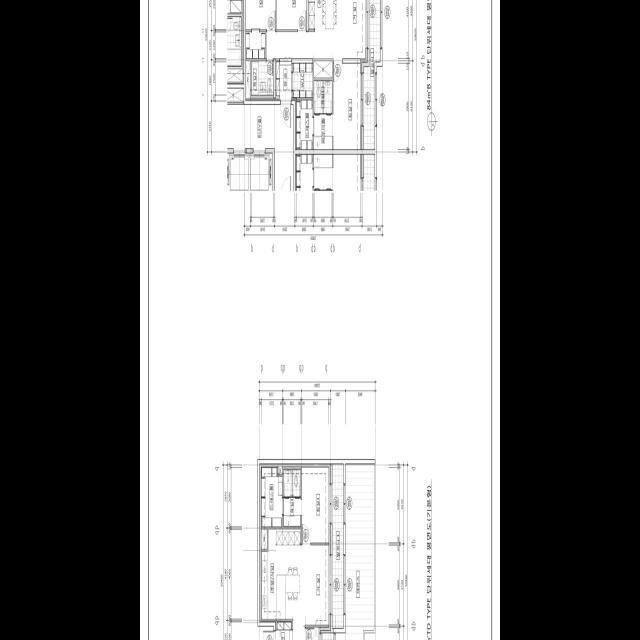background: (140, 0, 500, 640)
space_balconi: (364, 0, 380, 149), (332, 464, 343, 628)
space_bedroom: (333, 63, 362, 149), (302, 464, 330, 542), (246, 0, 276, 29), (277, 0, 306, 29)
space_dressroom: (260, 464, 282, 526), (295, 99, 313, 149), (246, 31, 265, 58)
space_elevator: (249, 153, 272, 190), (227, 153, 249, 190)
space_elevator_hall: (227, 104, 293, 190)
space_front: (276, 60, 292, 99), (276, 621, 293, 640)
space_kitchen: (260, 529, 301, 621), (308, 0, 337, 29)
space_living_room: (266, 0, 367, 61), (293, 545, 330, 640)
space_other: (293, 63, 313, 97), (314, 60, 332, 77), (227, 88, 244, 102), (246, 60, 250, 99), (260, 529, 267, 549), (278, 463, 282, 474)
space_toilet: (314, 80, 332, 149), (283, 468, 302, 526), (251, 60, 274, 95)
